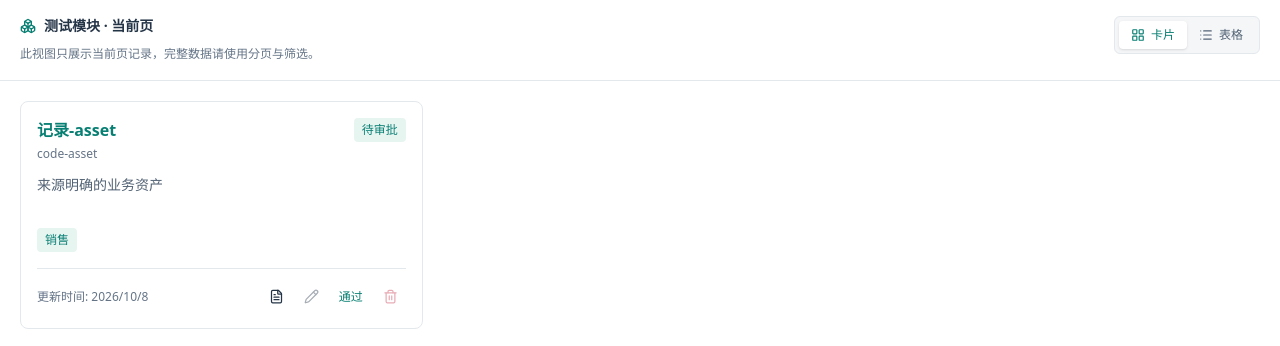
Test: product workspaces › switches catalog cards to the same record table and delegates card details
Check: the text "销售" is shown, box [37,228,77,252]
Click the button "记录-asset". click: (77, 130)
box: [37,118,116,142]
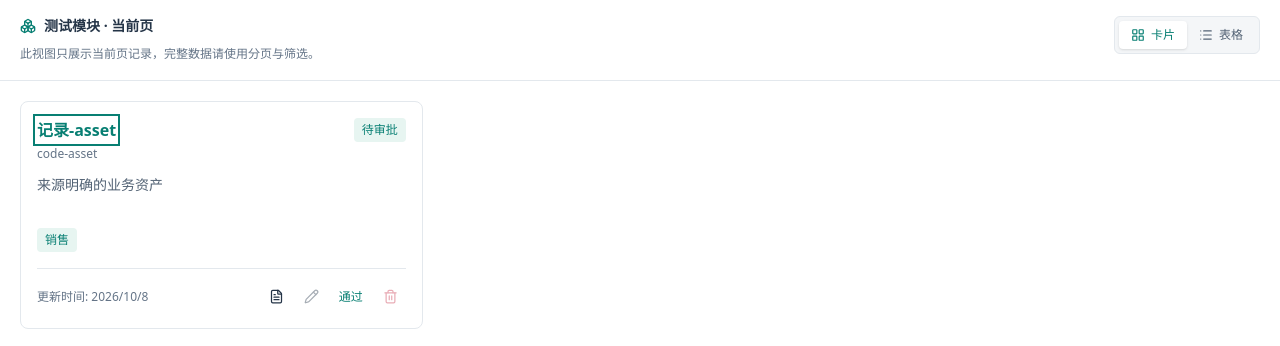
Click the button "表格". click: (1221, 35)
box: [1187,21,1255,49]
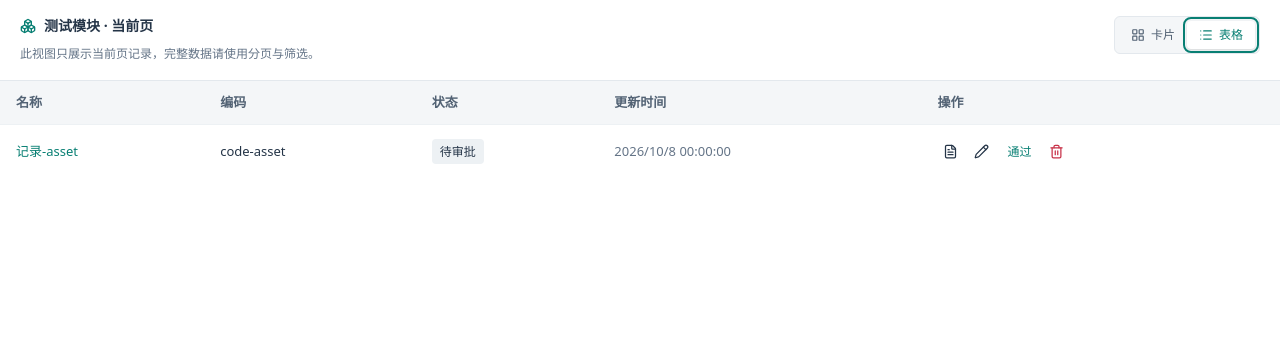
Check: the button "记录-asset" is shown, box [16,142,78,161]
Check: the table is shown, box [0,80,1279,178]
